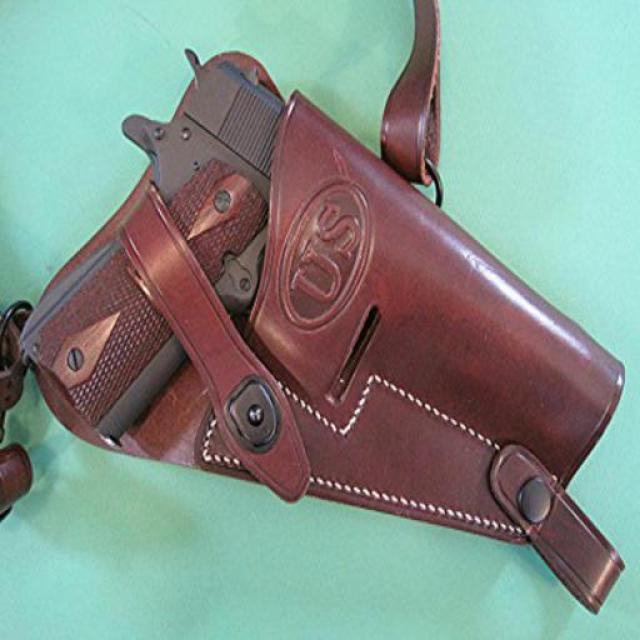pistol: (9, 33, 624, 541)
